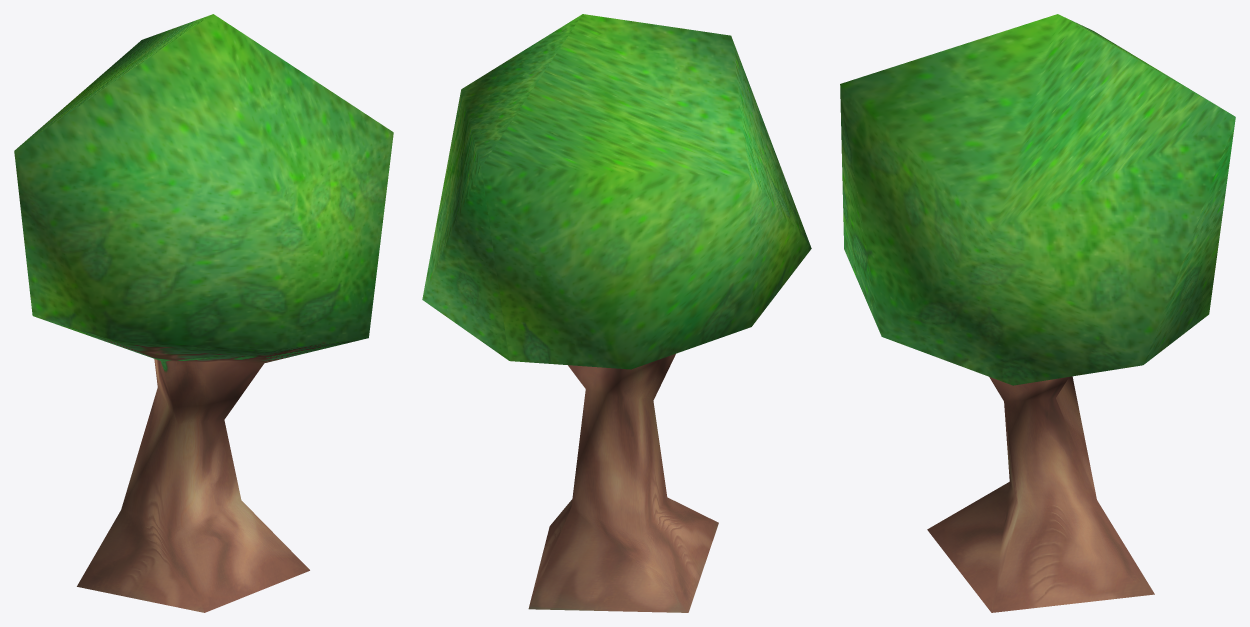
The model's file is BKS_Set3_TreeA.fbx.
3 renders of one model, left to right at view 1: azimuth 30°, elevation 25°; view 2: azimuth 150°, elevation 25°; view 3: azimuth 270°, elevation 25°, orthographic. The views are drawn at different scales.
Parts seen in each view (by area): view 1: treeA; view 2: treeA; view 3: treeA.
Part boxes in pixels (x1=…): treeA: x1=14, y1=14, x2=393, y2=612; treeA: x1=422, y1=14, x2=811, y2=612; treeA: x1=840, y1=14, x2=1235, y2=612.
Size of the model in its own units: 5.57 by 8.96 by 5.57.
